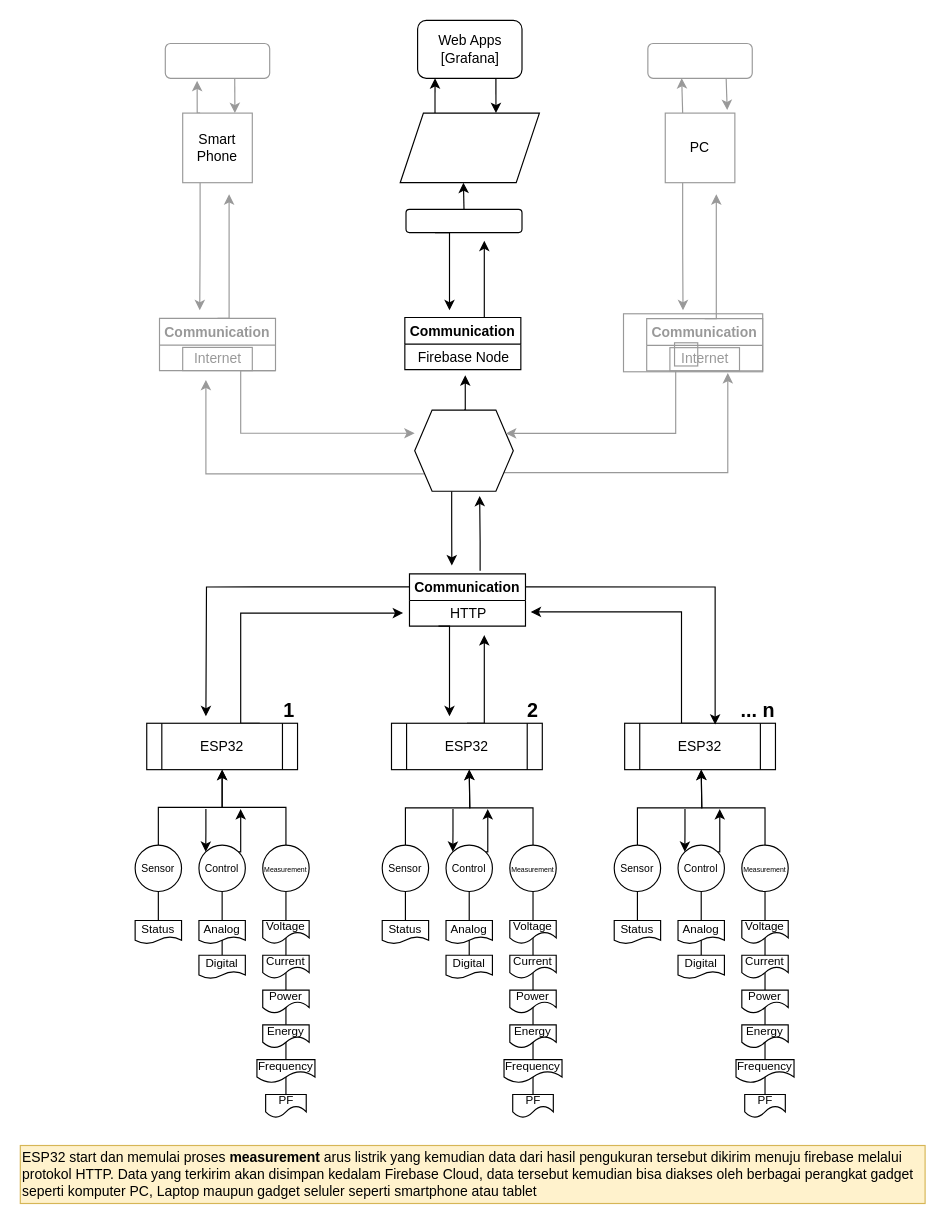
Image size: 945x1224. Some labels were removed from this diagram. Here are the shapes that lost their labels. From the top down, the box of each, then its label:
(164, 42, 270, 78): Mobile Apps
(647, 42, 752, 78): Web Apps
(399, 112, 539, 183): Raspberry Pi
(405, 208, 522, 233): Node-Red
(414, 409, 513, 491): Firebase
